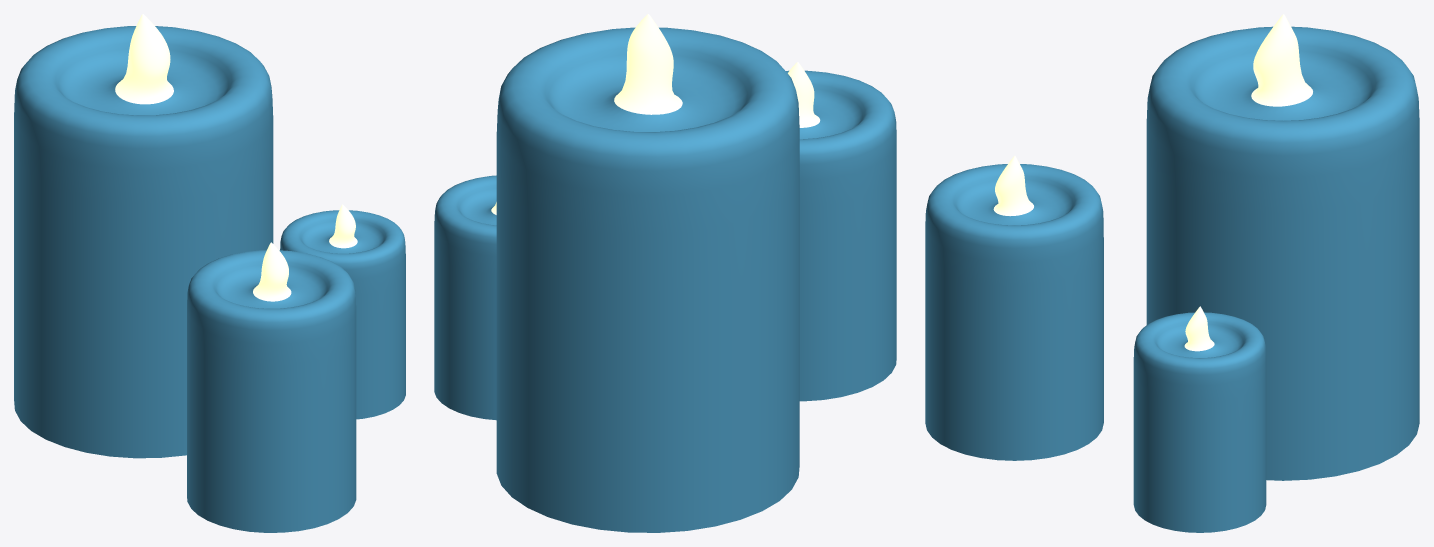
The model's file is Candles.fbx.
The picture shows the model from 3 angles, left to right: view 1: azimuth 30°, elevation 25°; view 2: azimuth 150°, elevation 25°; view 3: azimuth 270°, elevation 25°; orthographic projection. The views are drawn at different scales.
Parts seen in each view (by area): view 1: Circle.022, Circle.009, Circle.023; view 2: Circle.022, Circle.009, Circle.023; view 3: Circle.022, Circle.009, Circle.023.
Part boxes in pixels (x1=…): Circle.022: x1=14, y1=14, x2=273, y2=458; Circle.009: x1=187, y1=242, x2=356, y2=532; Circle.023: x1=280, y1=204, x2=405, y2=419; Circle.022: x1=496, y1=14, x2=799, y2=532; Circle.009: x1=786, y1=62, x2=896, y2=401; Circle.023: x1=434, y1=175, x2=496, y2=420; Circle.022: x1=1146, y1=14, x2=1419, y2=480; Circle.009: x1=925, y1=155, x2=1103, y2=460; Circle.023: x1=1133, y1=306, x2=1266, y2=532.
Size of the model in its own units: 82.88 by 94.32 by 103.
